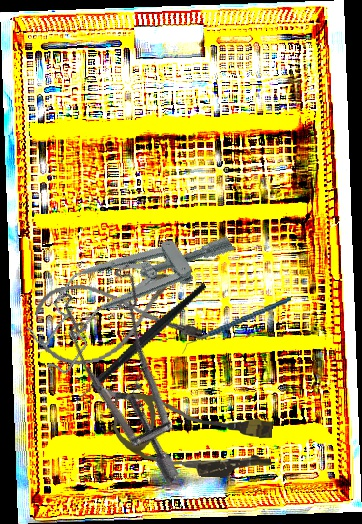Cannula: (31, 266, 205, 371), (111, 392, 274, 481)
Chopper: (48, 282, 232, 415), (178, 297, 295, 354)
Speculum: (10, 242, 263, 486), (13, 195, 244, 381)
